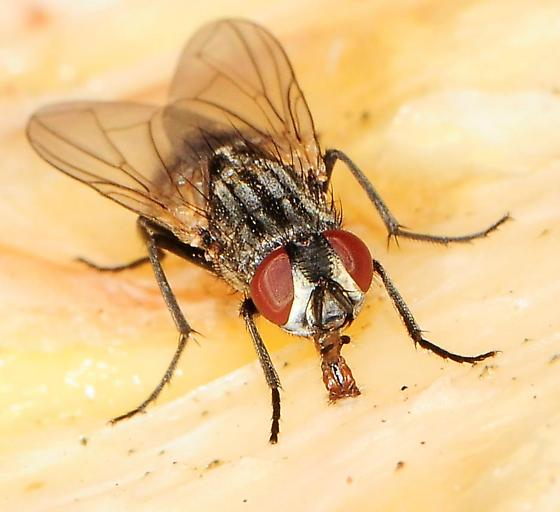house fly: (24, 9, 512, 447)
